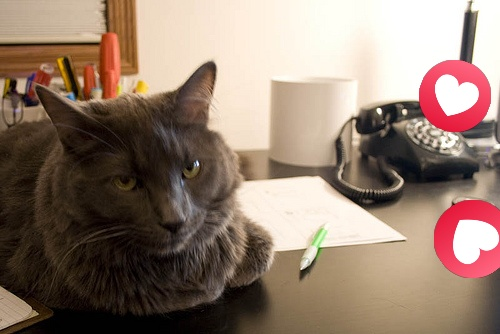love: (419, 60, 491, 132), (434, 200, 500, 278)
